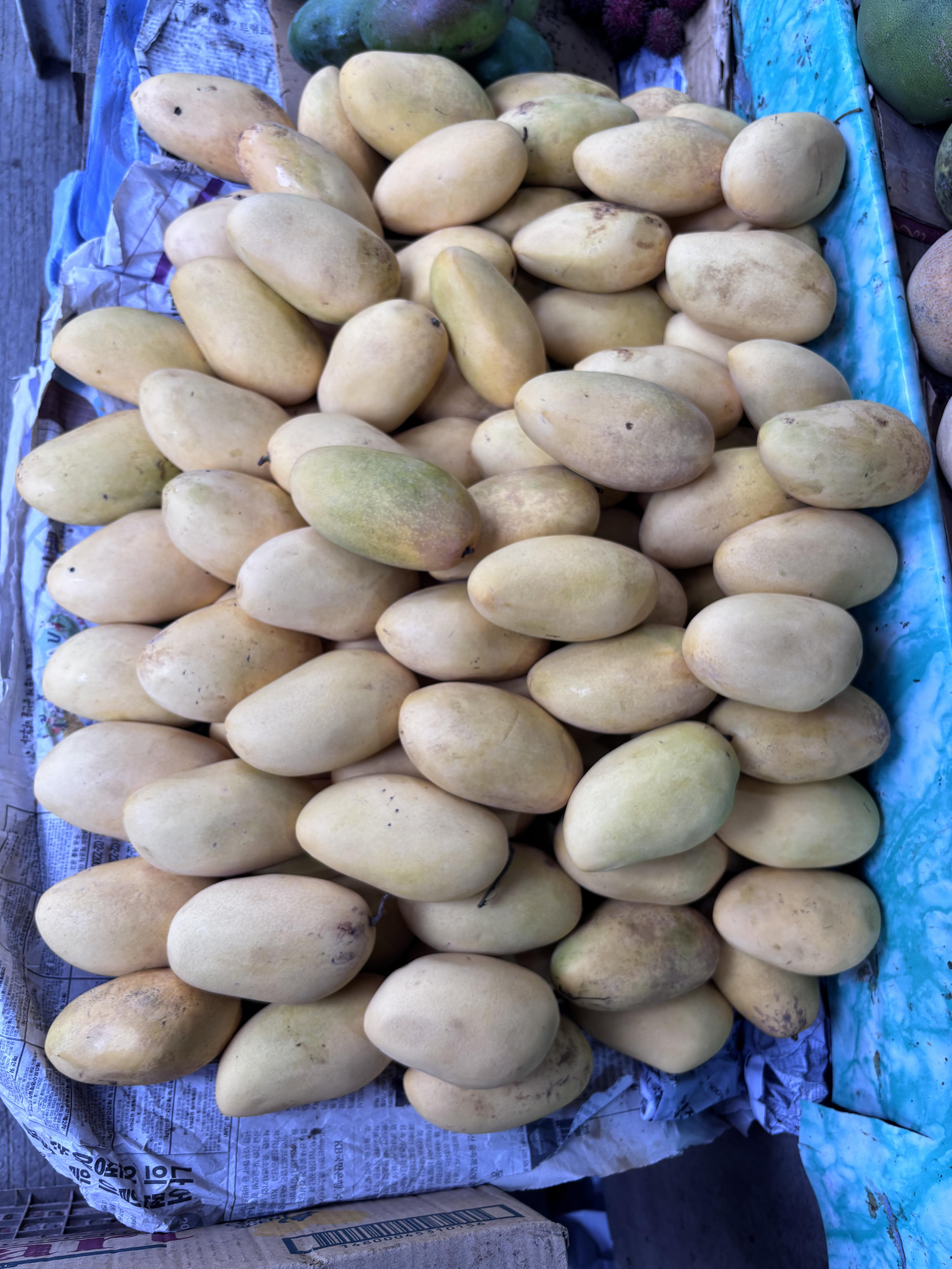mango: (167, 874, 376, 1005), (296, 774, 508, 902), (562, 722, 739, 873), (365, 953, 560, 1089), (514, 371, 714, 492), (399, 682, 582, 814), (291, 446, 480, 571), (171, 257, 326, 406), (226, 193, 400, 324), (683, 593, 862, 712), (468, 535, 658, 642), (666, 230, 836, 343), (550, 900, 719, 1012), (758, 401, 930, 509), (713, 867, 880, 976), (373, 120, 528, 235), (511, 201, 671, 293), (721, 112, 845, 228)
occluded: (216, 974, 390, 1117), (225, 650, 418, 776), (45, 968, 240, 1086), (137, 599, 322, 723), (34, 721, 226, 840), (124, 759, 314, 877), (403, 1017, 593, 1134), (47, 510, 230, 625), (35, 858, 213, 976), (236, 527, 419, 641), (527, 625, 715, 734), (399, 845, 582, 955), (639, 448, 803, 569), (431, 465, 600, 581), (15, 409, 179, 526), (430, 246, 545, 409), (713, 508, 898, 609), (708, 686, 890, 784), (375, 581, 549, 682), (317, 299, 448, 433), (131, 73, 291, 181), (338, 51, 495, 160), (139, 368, 289, 480), (237, 123, 382, 236), (162, 471, 304, 585), (50, 307, 212, 404), (573, 118, 730, 218), (574, 345, 742, 438), (42, 624, 195, 726), (554, 821, 729, 906), (719, 776, 880, 868), (572, 984, 734, 1074), (500, 94, 635, 189), (297, 65, 386, 196), (530, 285, 673, 366), (727, 339, 851, 430), (268, 412, 403, 492), (713, 940, 820, 1038), (396, 226, 517, 311), (163, 194, 250, 267), (484, 71, 618, 116), (398, 416, 482, 487), (471, 410, 558, 478), (479, 186, 582, 243), (416, 353, 499, 423), (663, 312, 738, 368), (331, 741, 422, 783), (663, 102, 747, 143), (644, 560, 688, 627), (677, 564, 724, 624), (668, 201, 747, 234), (622, 86, 692, 122), (778, 224, 821, 254), (326, 634, 384, 652), (209, 723, 235, 757)
